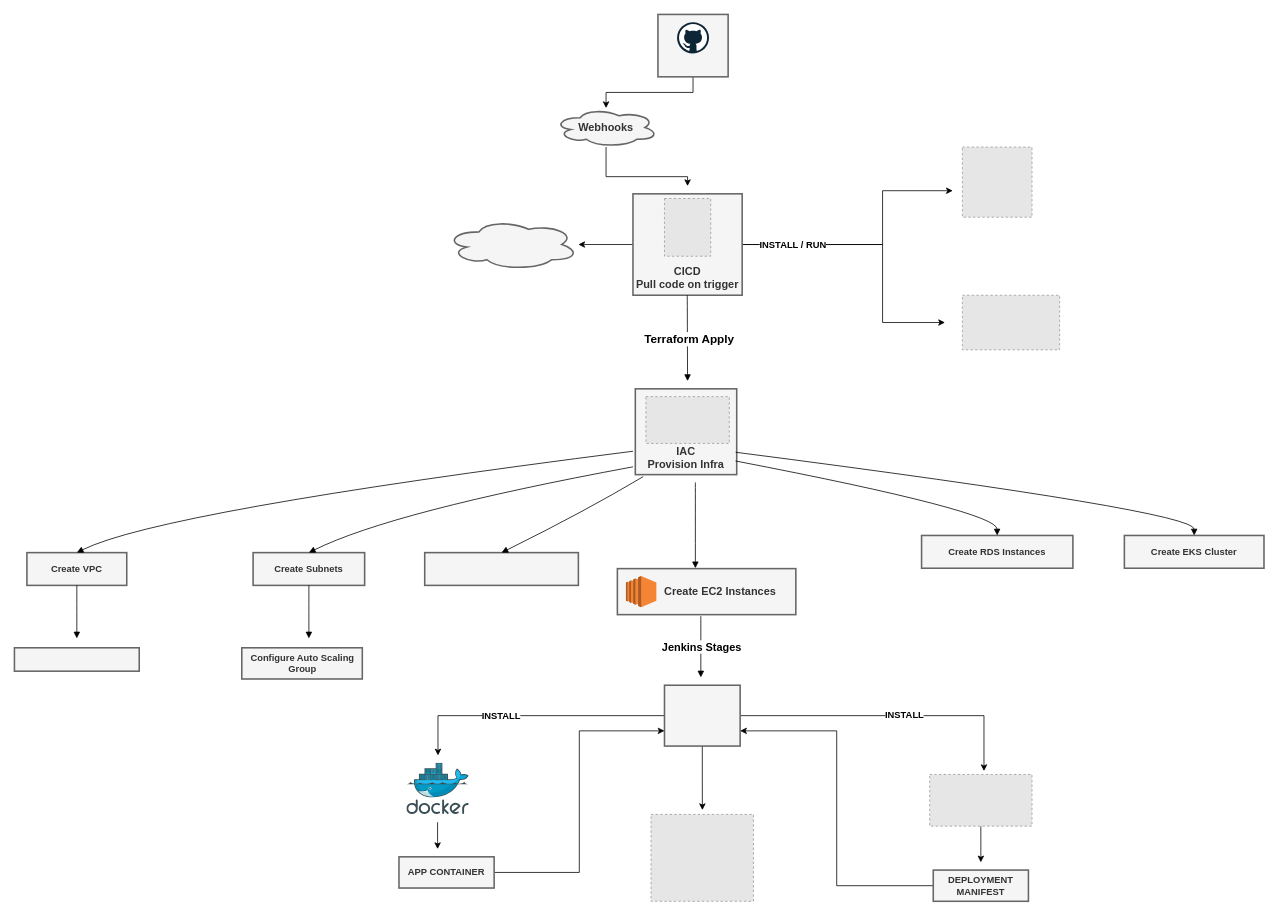
This 1278x915 diagram has some shape labels left out. Grey dashed boxes stand in for pictures. Each missing label, with the box of its shape:
ANSIBLE PLAYBOOKS: (663, 684, 741, 746)
Configure Load Balancer: (13, 647, 140, 672)
Create Security Groups: (424, 551, 579, 586)
Github Repo: (657, 13, 729, 77)
JENKINSFILE: (445, 218, 579, 270)
